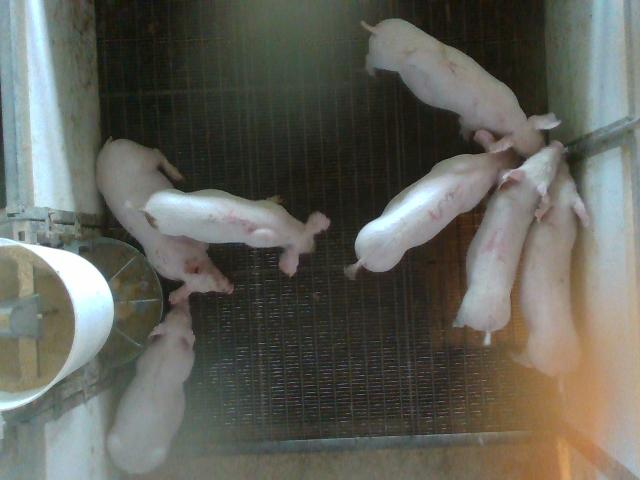pig-3: (345, 151, 515, 278)
pig-4: (452, 141, 565, 344)
pig-5: (144, 189, 330, 276)
